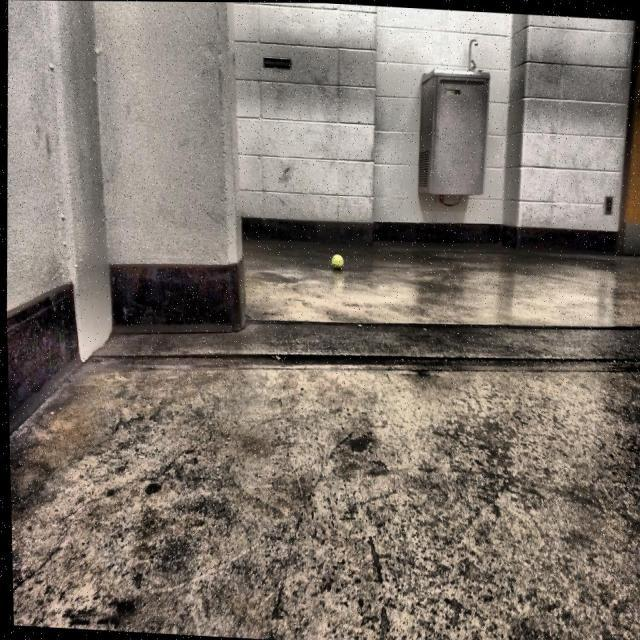tennis-ball: (327, 246, 348, 274)
